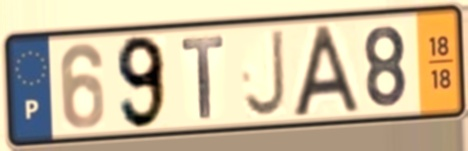6: (57, 39, 106, 132)
8: (361, 23, 411, 109)
9: (113, 32, 171, 132)
A: (289, 22, 363, 120)
J: (241, 26, 289, 121)
T: (178, 32, 227, 122)
